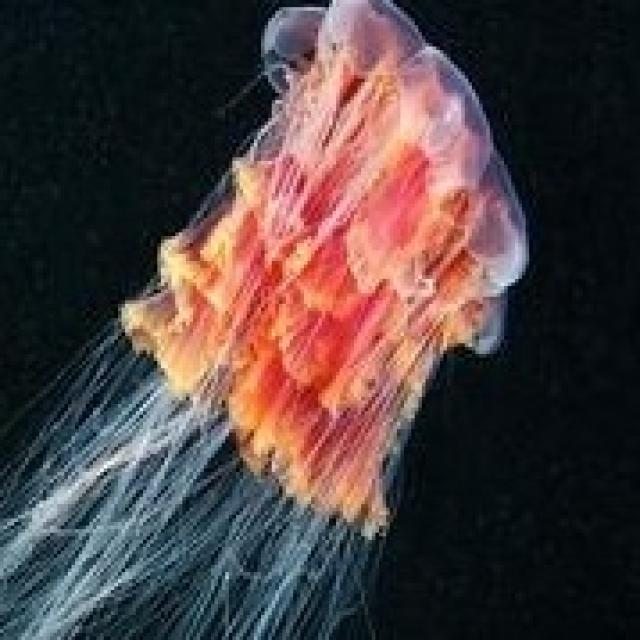Box-jellyfish: (0, 0, 529, 636)
